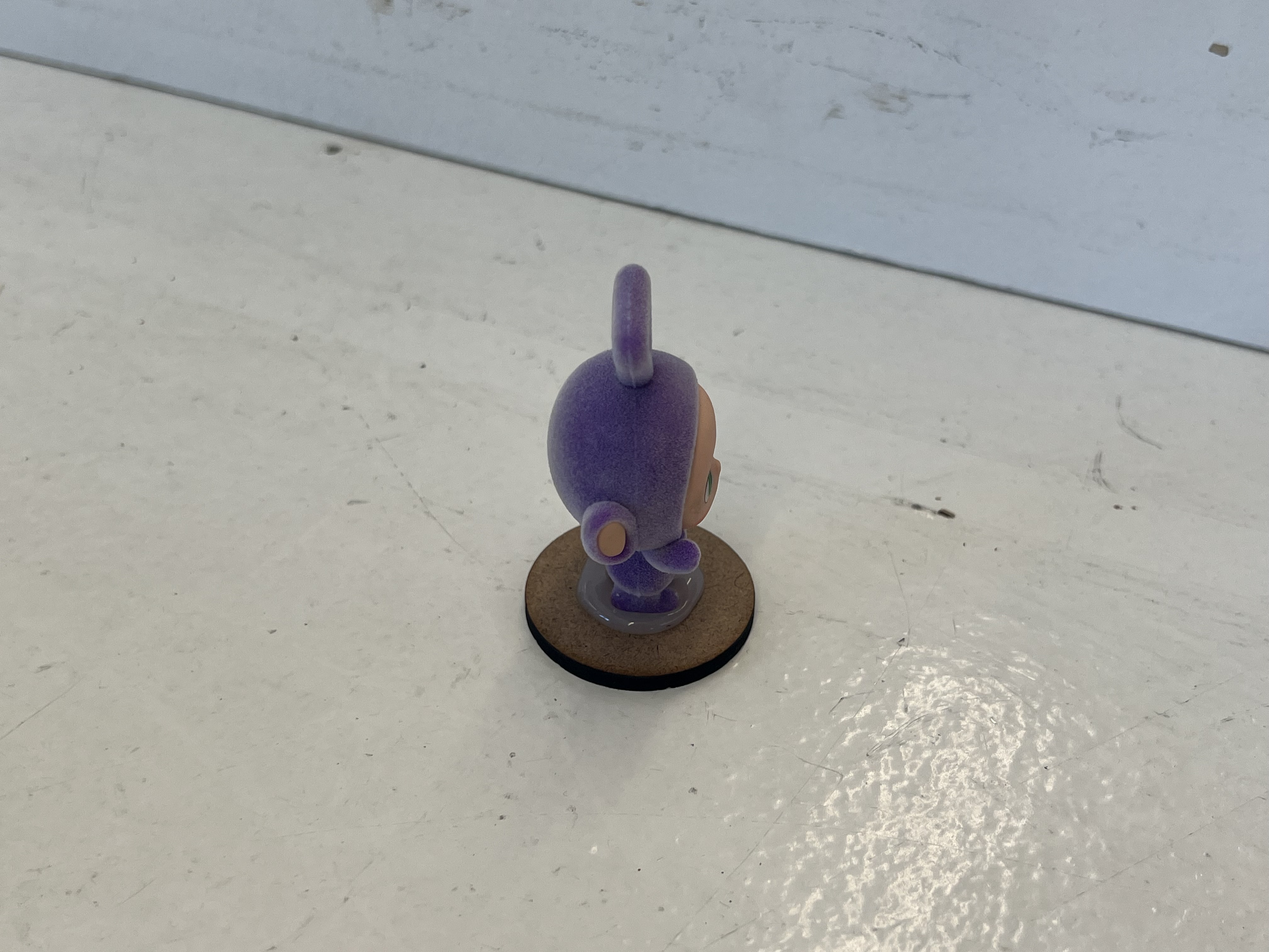teletubby: (548, 263, 721, 612)
